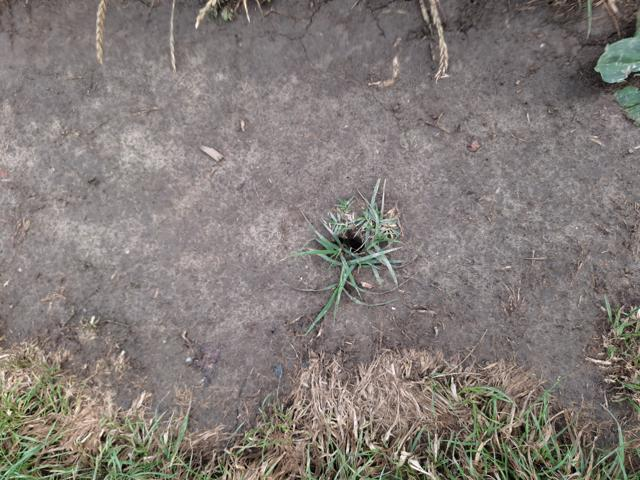bad weed: (0, 367, 640, 480), (287, 181, 414, 328)
